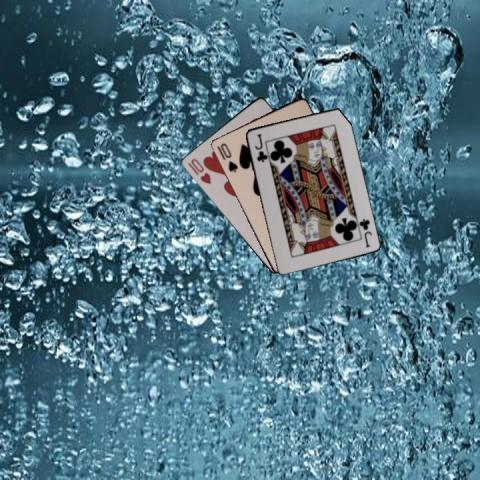10h: (185, 155, 212, 186)
10s: (218, 140, 239, 173)
Jc: (356, 215, 373, 249), (252, 131, 268, 163)
